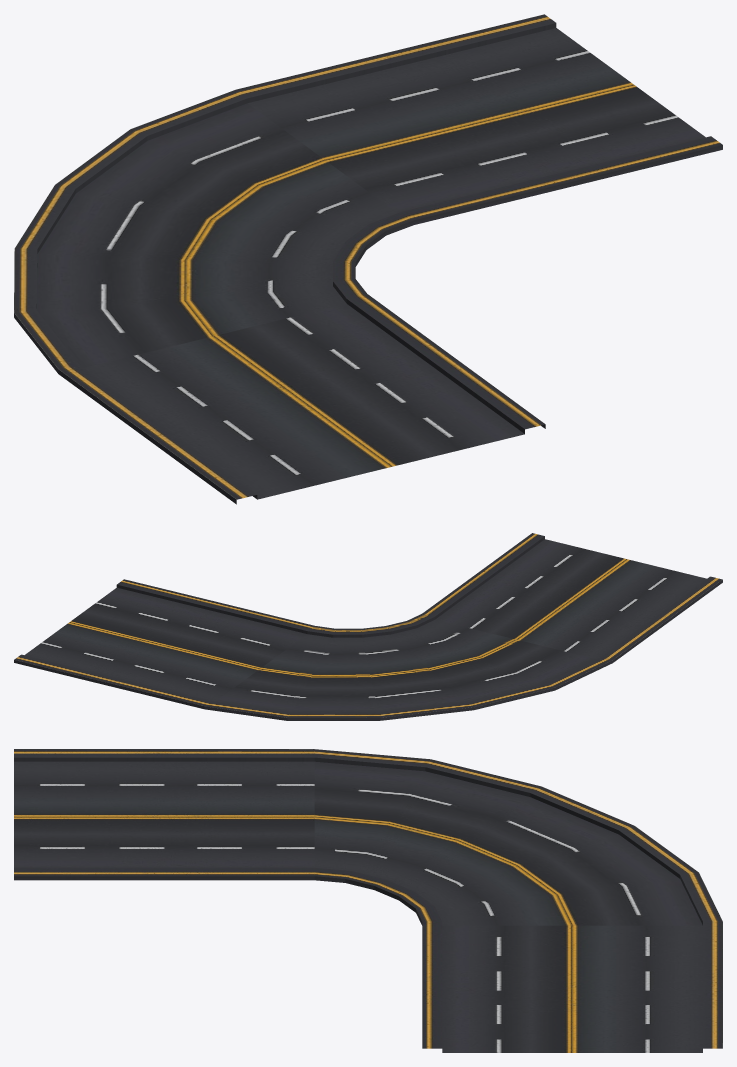
Rendered from Road_Connection_Piece1.fbx.
The picture shows the model from 3 angles, top to bottom: view 1: azimuth 30°, elevation 25°; view 2: azimuth 150°, elevation 25°; view 3: azimuth 270°, elevation 25°; orthographic projection. The views are drawn at different scales.
Visible parts, largest first — view 1: Plane.005; view 2: Plane.005; view 3: Plane.005.
Part boxes in pixels (x1,y1,x2,y2): Plane.005: (14,14,722,504); Plane.005: (14,533,722,720); Plane.005: (14,749,722,1052).
Size of the model in its own units: 3300 by 21.19 by 3300.
